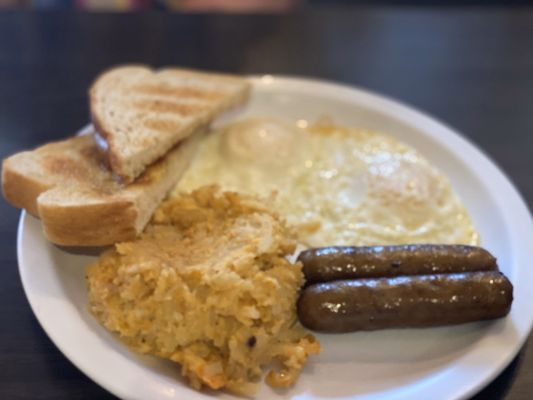soup: (3, 64, 254, 249)
